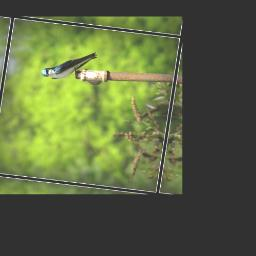Swallow: (40, 46, 100, 84)
